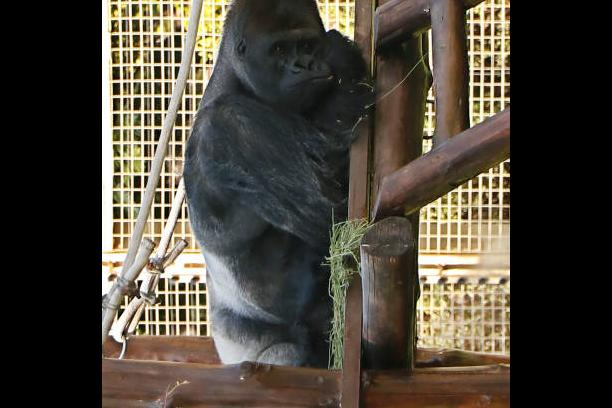gorille_Autres: (175, 0, 352, 408)
